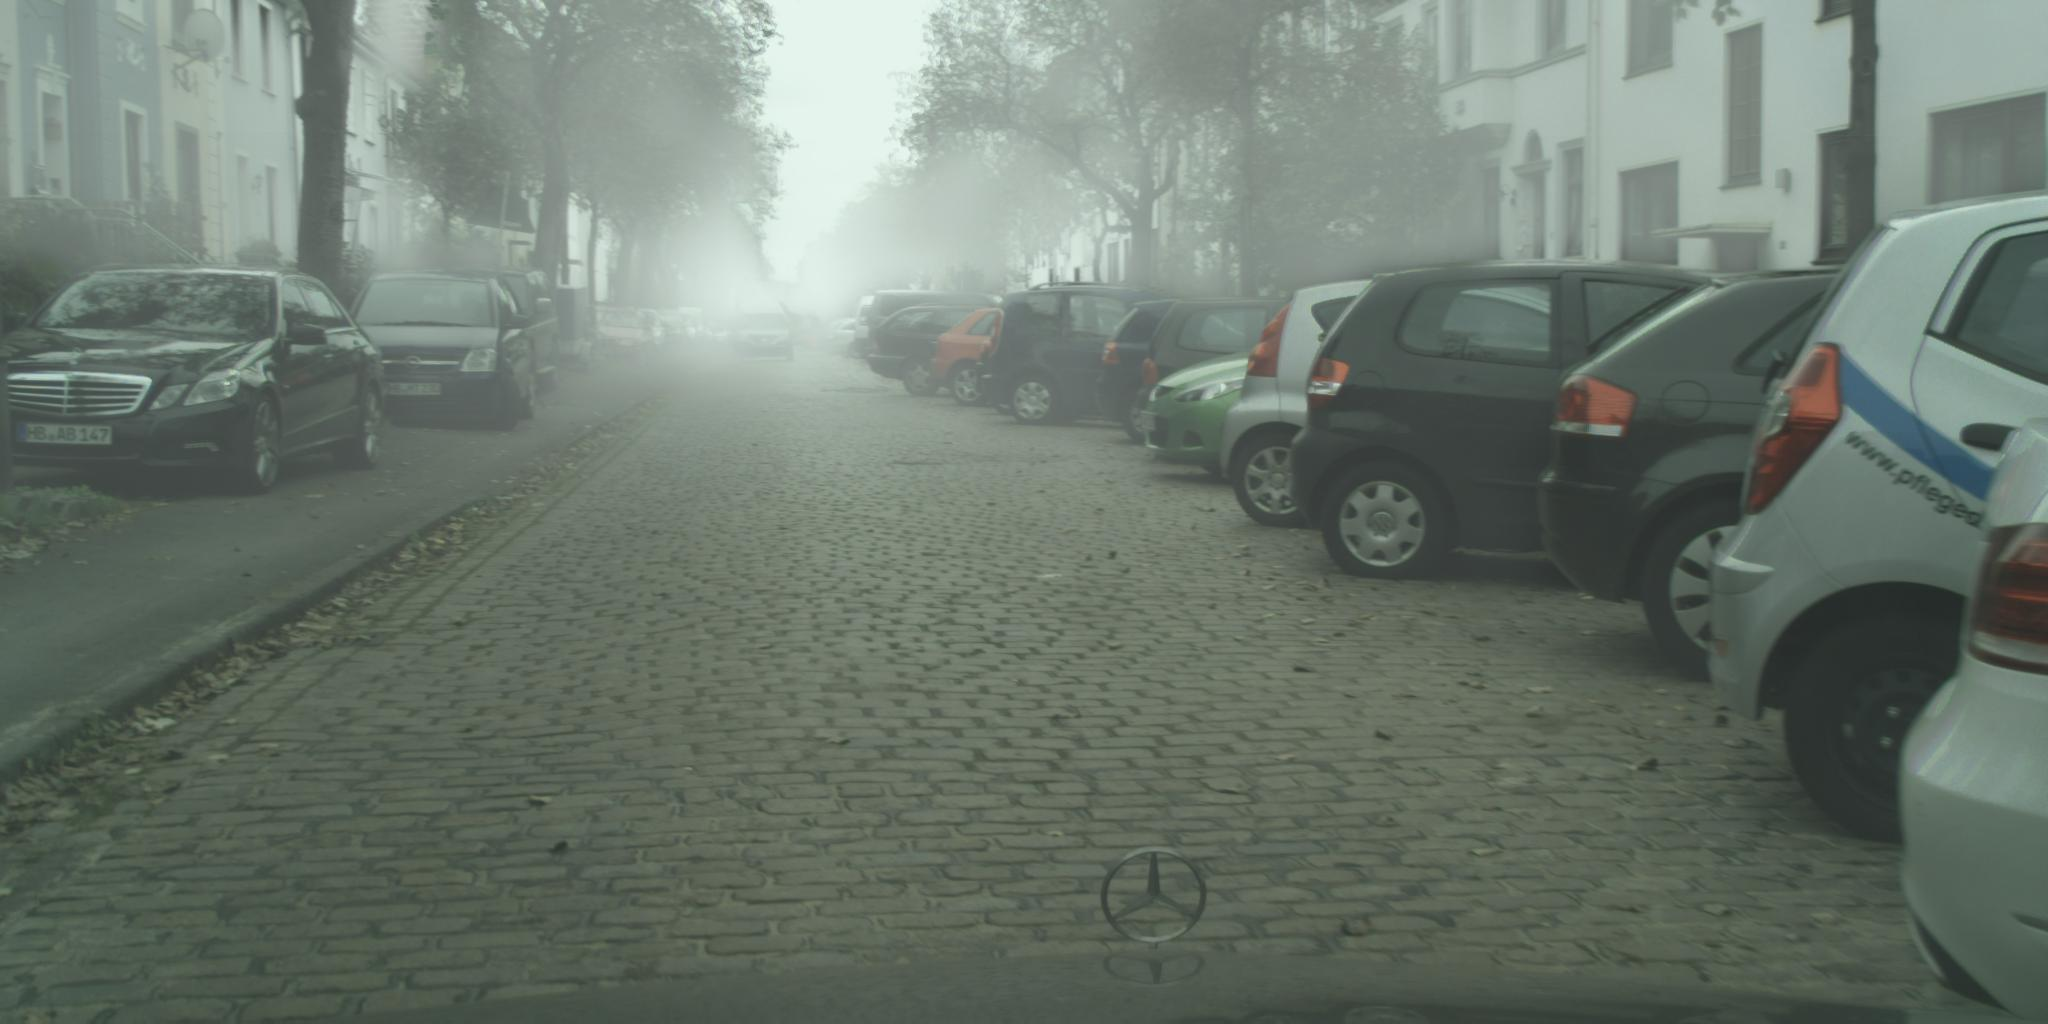car: (1708, 184, 2048, 848), (1533, 266, 1927, 680), (1290, 259, 1728, 583), (1896, 411, 2048, 1024), (1, 264, 387, 499), (1221, 280, 1401, 528), (347, 269, 539, 432), (974, 283, 1178, 428), (1095, 299, 1276, 444), (1130, 300, 1293, 435), (1138, 353, 1272, 475), (449, 266, 562, 391), (869, 304, 1004, 398), (869, 289, 1007, 360), (933, 310, 1024, 408), (594, 306, 656, 368), (731, 315, 795, 363), (853, 296, 886, 358), (630, 310, 667, 362), (827, 321, 869, 360), (658, 312, 691, 357), (818, 317, 854, 357), (807, 325, 829, 353)
